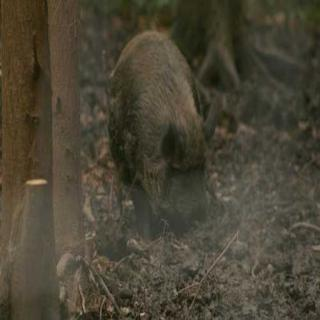Pig: (99, 24, 222, 256)
